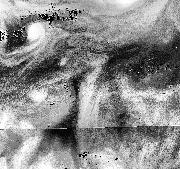CE: (24, 20, 47, 44)
